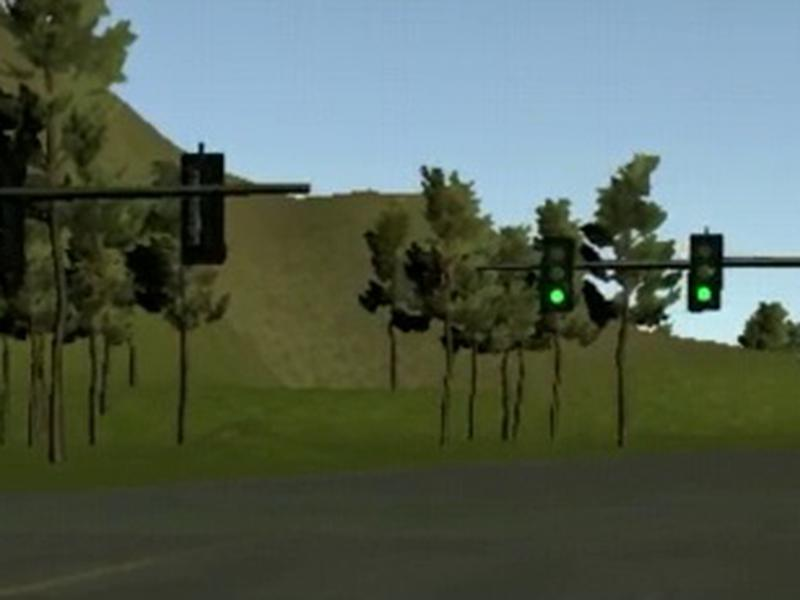Green: (687, 233, 723, 313), (539, 236, 575, 312)
